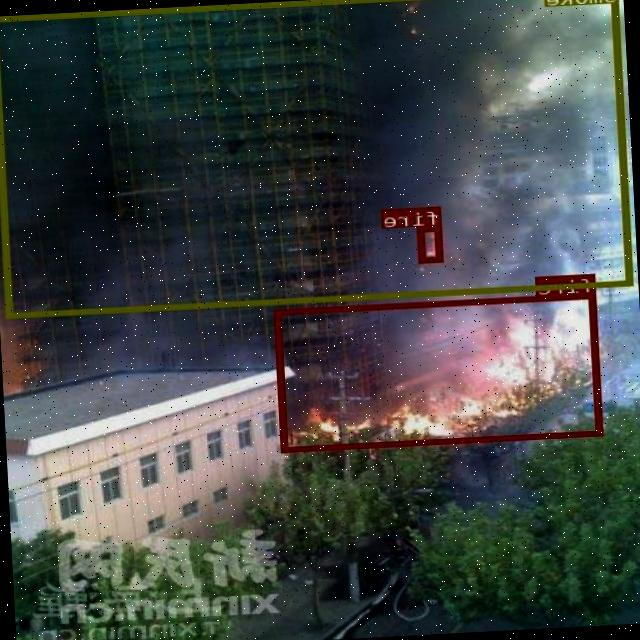fire: (276, 292, 604, 452), (418, 225, 445, 262)
smoke: (0, 0, 635, 317)
